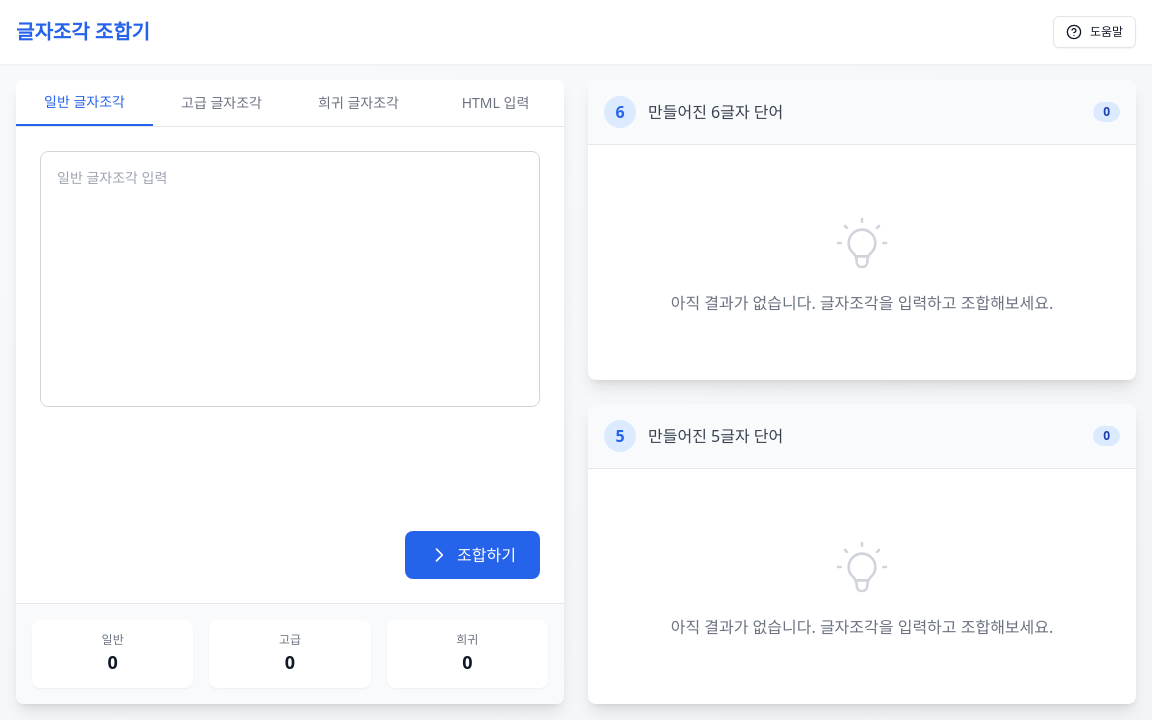
WordCombinerPage › uses only candidate words and splits them into the existing 5/6-character inputs
In the text box with placeholder "일반 글자조각 입력": (290,279) [40,151,540,407], type "가나다라마바사아자차카"
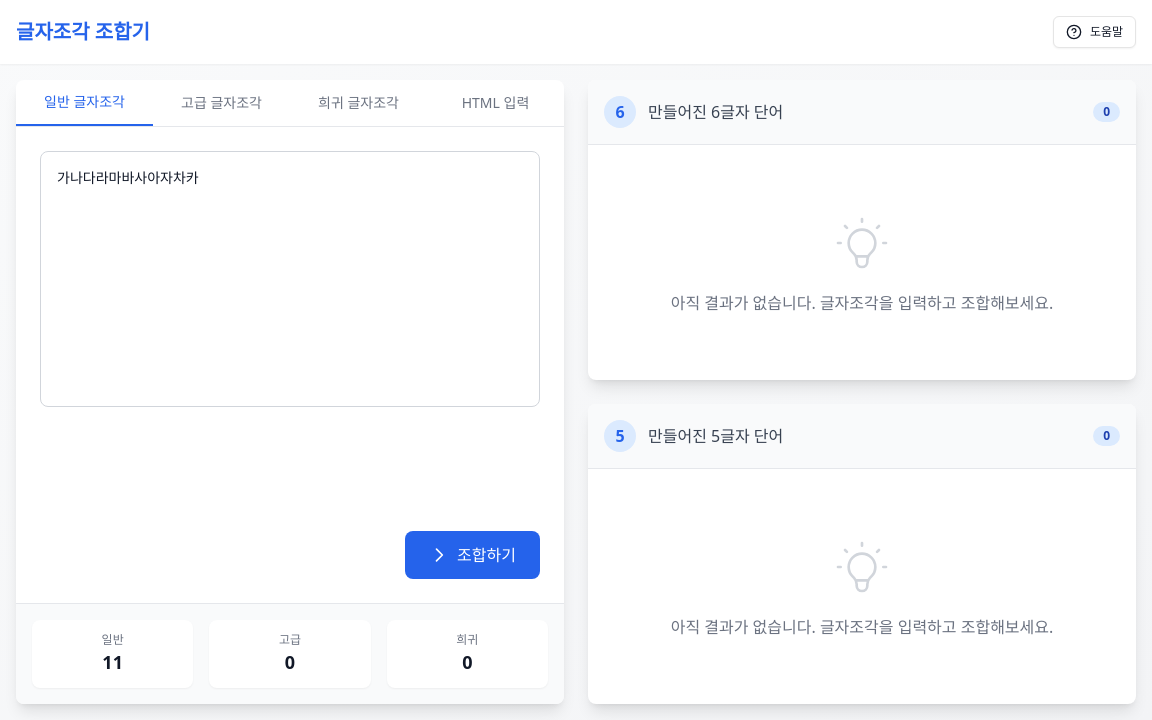
Click the button "조합하기": (473,555) [405,531,540,579]
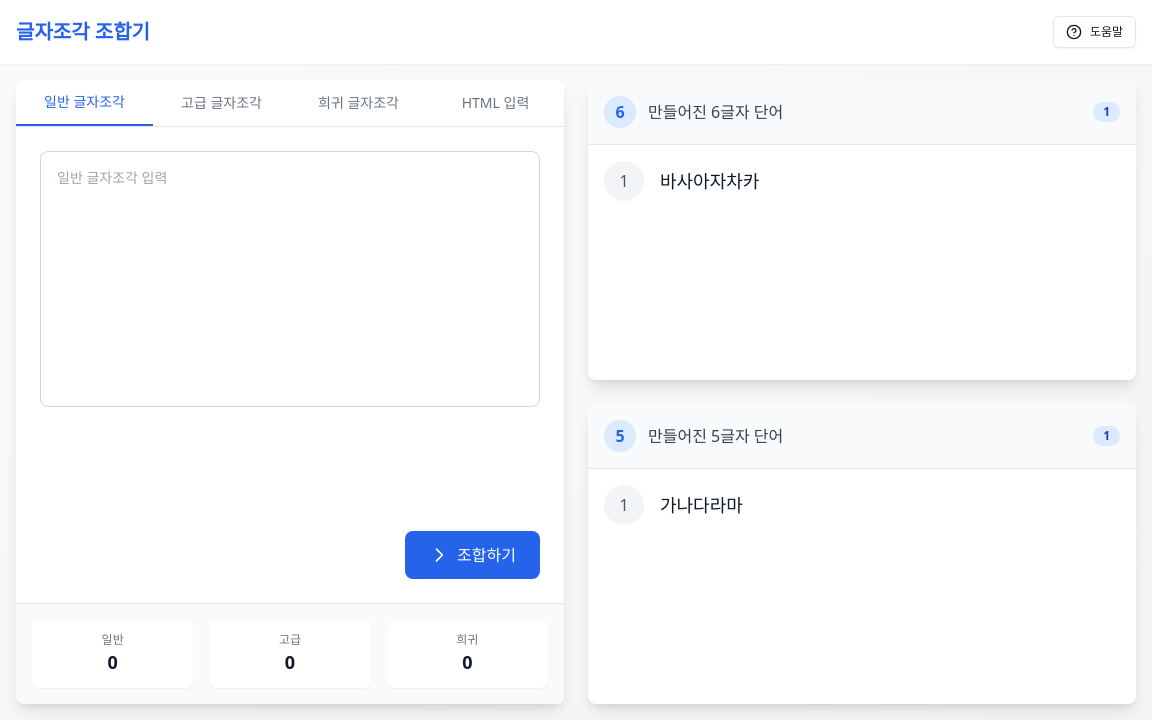
Expected: the text "가나다라마" is shown, [660,493,743,517]
Expected: the text "바사아자차카" is shown, [660,169,759,193]
